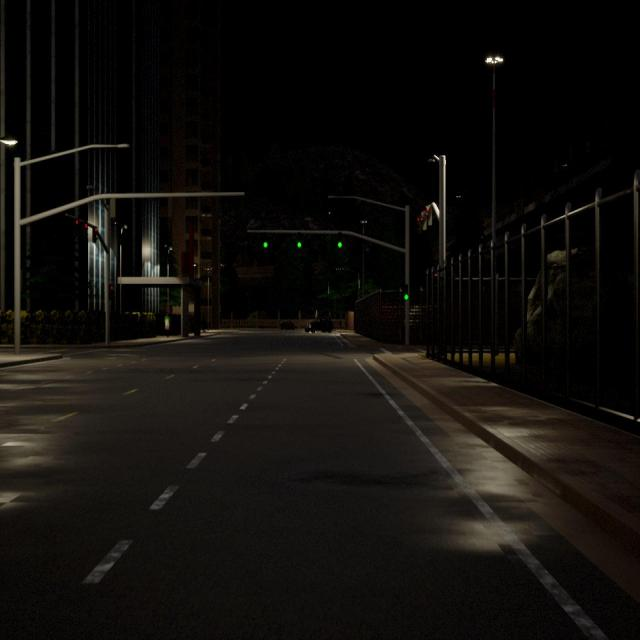Pedestrian: (164, 314, 170, 338), (200, 314, 206, 332)
Vehicle: (305, 318, 334, 332), (280, 321, 295, 330)
traffic_light: (427, 205, 432, 225), (92, 226, 98, 242), (263, 232, 268, 249), (109, 284, 114, 300), (422, 211, 426, 230), (404, 284, 408, 301), (297, 232, 301, 248), (338, 232, 342, 248), (75, 218, 79, 232), (417, 217, 421, 231), (85, 223, 88, 236)
